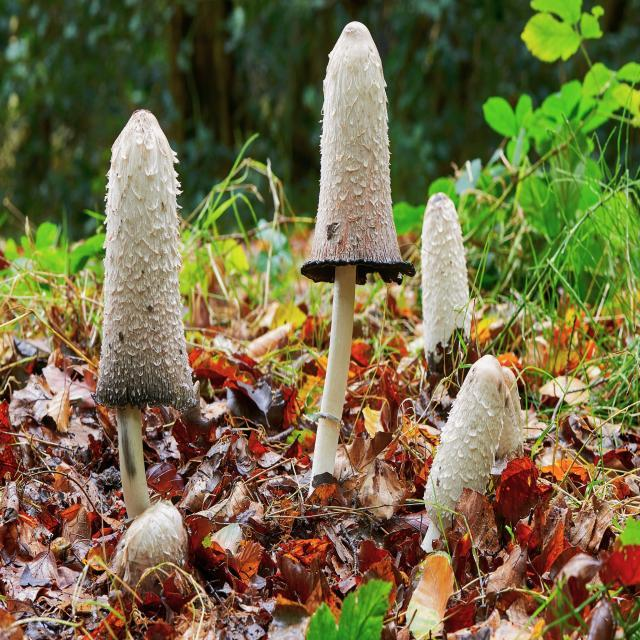Coprinus comatus: (304, 19, 411, 475), (97, 105, 193, 508), (427, 357, 506, 550), (422, 190, 469, 369)
